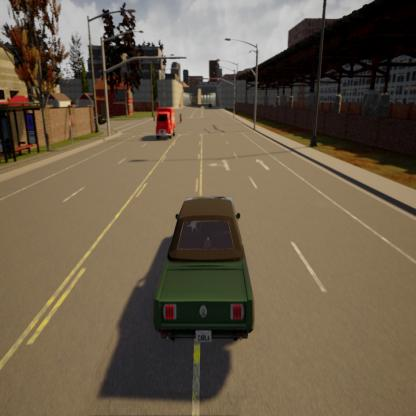Cars: (146, 184, 261, 359), (152, 97, 180, 150)
